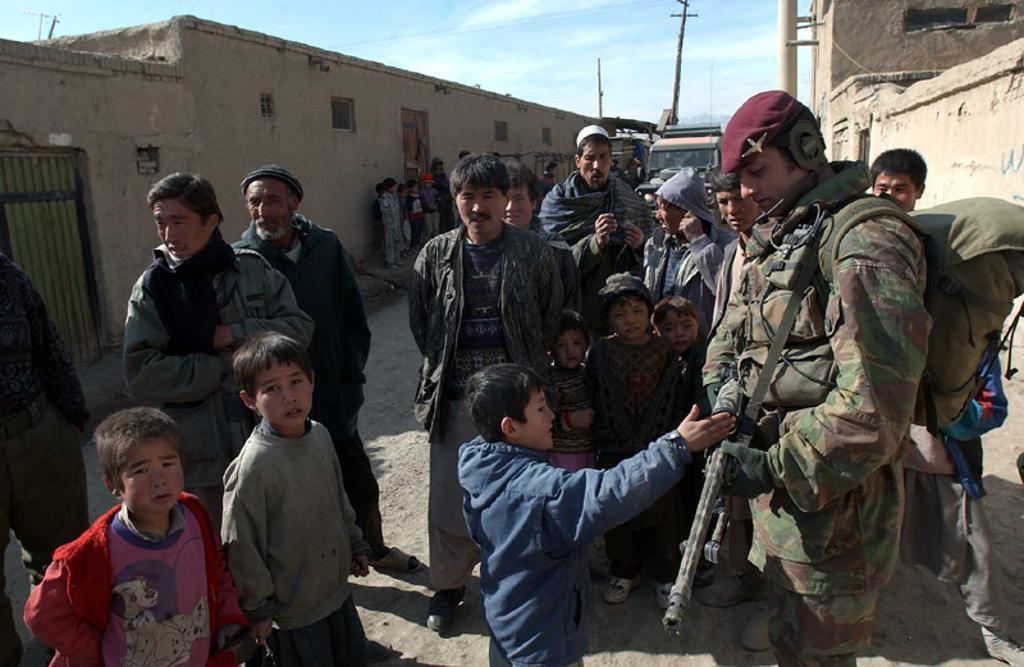face: (119, 442, 184, 514), (735, 153, 801, 217), (255, 361, 313, 428), (152, 203, 208, 260), (247, 182, 292, 239), (456, 182, 505, 234), (516, 388, 555, 447), (874, 171, 917, 218), (714, 189, 756, 232), (494, 185, 532, 230), (609, 301, 649, 340), (660, 312, 698, 351), (580, 142, 611, 187), (550, 330, 585, 367), (656, 199, 683, 235), (388, 184, 397, 194), (436, 163, 443, 173), (414, 184, 420, 192)
